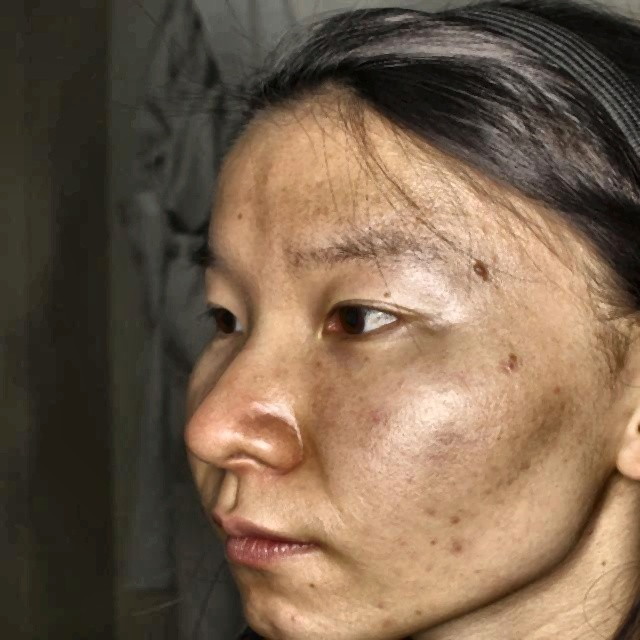comedone: (503, 352, 539, 378)
